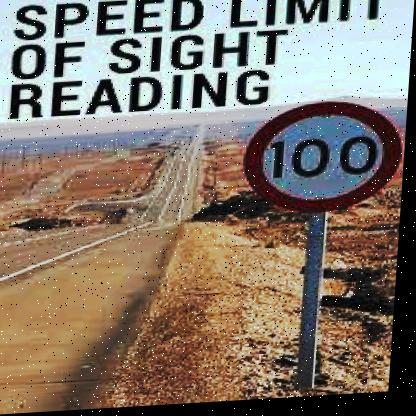Speed Limit -100-: (241, 98, 408, 221)
